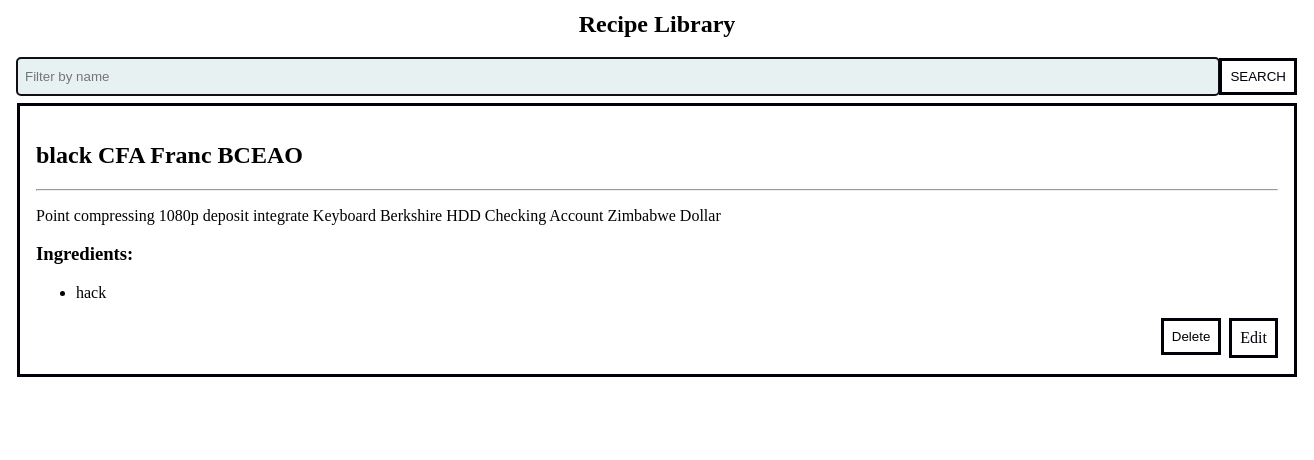
Test: ListRecipes › delete recipe › renders error message when server error occurs while deleting recipe
Click the button "Delete" at (1191, 337), box 1161,318 -> 1221,355
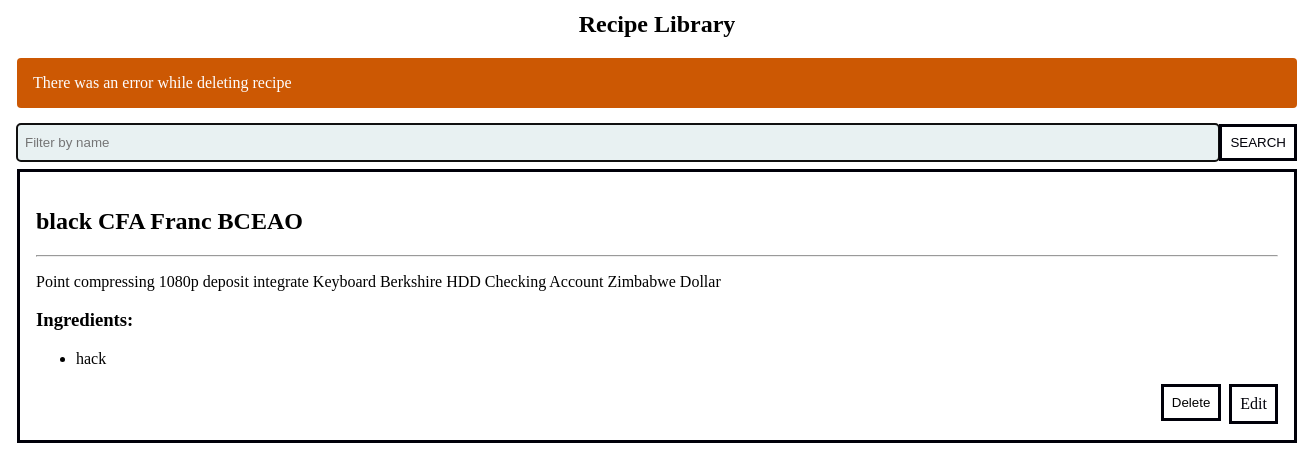
Expected: the text "There was an error while deleting recipe" is shown, 17,58 -> 1297,108
